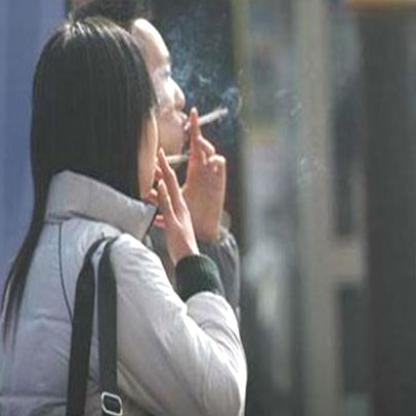cigarette: (187, 104, 231, 132), (157, 151, 191, 166)
person: (10, 25, 190, 416)
